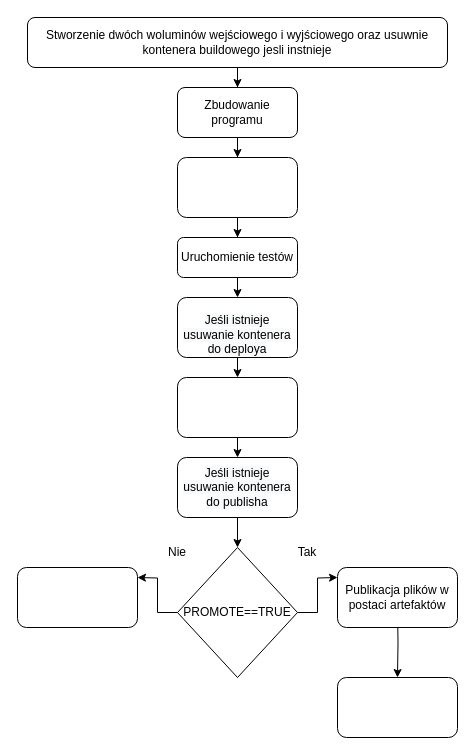
Image size: 475x755. Some labels were removed from this diagram. The shapes that lost their labels are listed below. From the top down, each one's centre as x and y in pixels, then its label:
the point at 237,187: Jeśli istnieje usuwanie kontenera do testów
the point at 237,407: Przeprowadzenie wdrażania wewnątrz utworzonego kontenera
the point at 77,597: Zakończenie działania programów
the point at 397,707: Usuwanie wszystkich utworzonych wcześniej kontenerów
